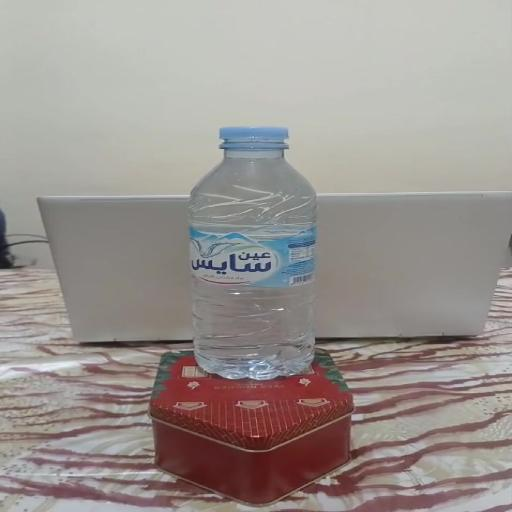bouteille non conformite: (166, 106, 322, 377), (194, 124, 306, 164)
